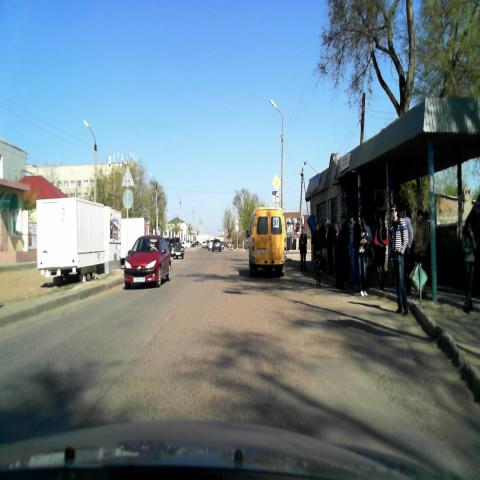8_13: (272, 191, 280, 205)
